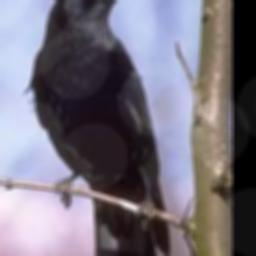Crow: (24, 0, 169, 256)
